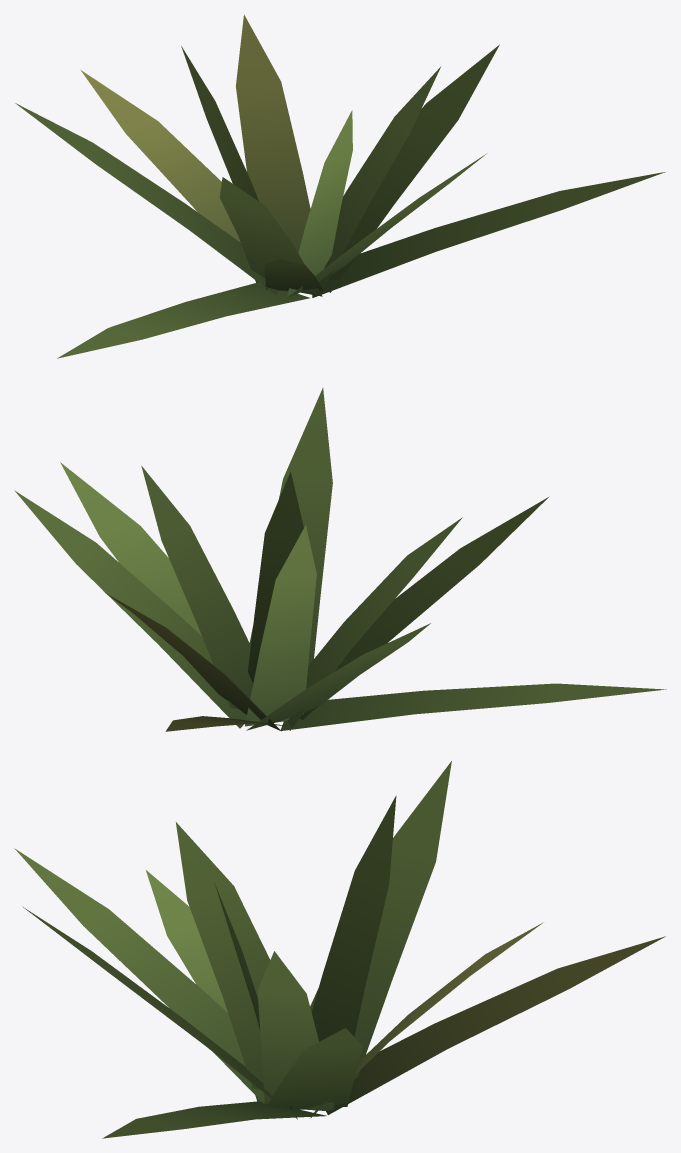
Rendered from succulent.agave.green.glb.
The picture shows the model from 3 angles, top to bottom: view 1: azimuth 30°, elevation 25°; view 2: azimuth 150°, elevation 25°; view 3: azimuth 270°, elevation 25°; orthographic projection. The views are drawn at different scales.
Parts seen in each view (by area): view 1: succulent_agave_green; view 2: succulent_agave_green; view 3: succulent_agave_green.
Part boxes in pixels (x1=…): succulent_agave_green: x1=15, y1=14, x2=665, y2=358; succulent_agave_green: x1=14, y1=388, x2=666, y2=731; succulent_agave_green: x1=14, y1=761, x2=665, y2=1138.
Bounding box in the file's own units: 1.34 × 0.4936 × 1.1.
